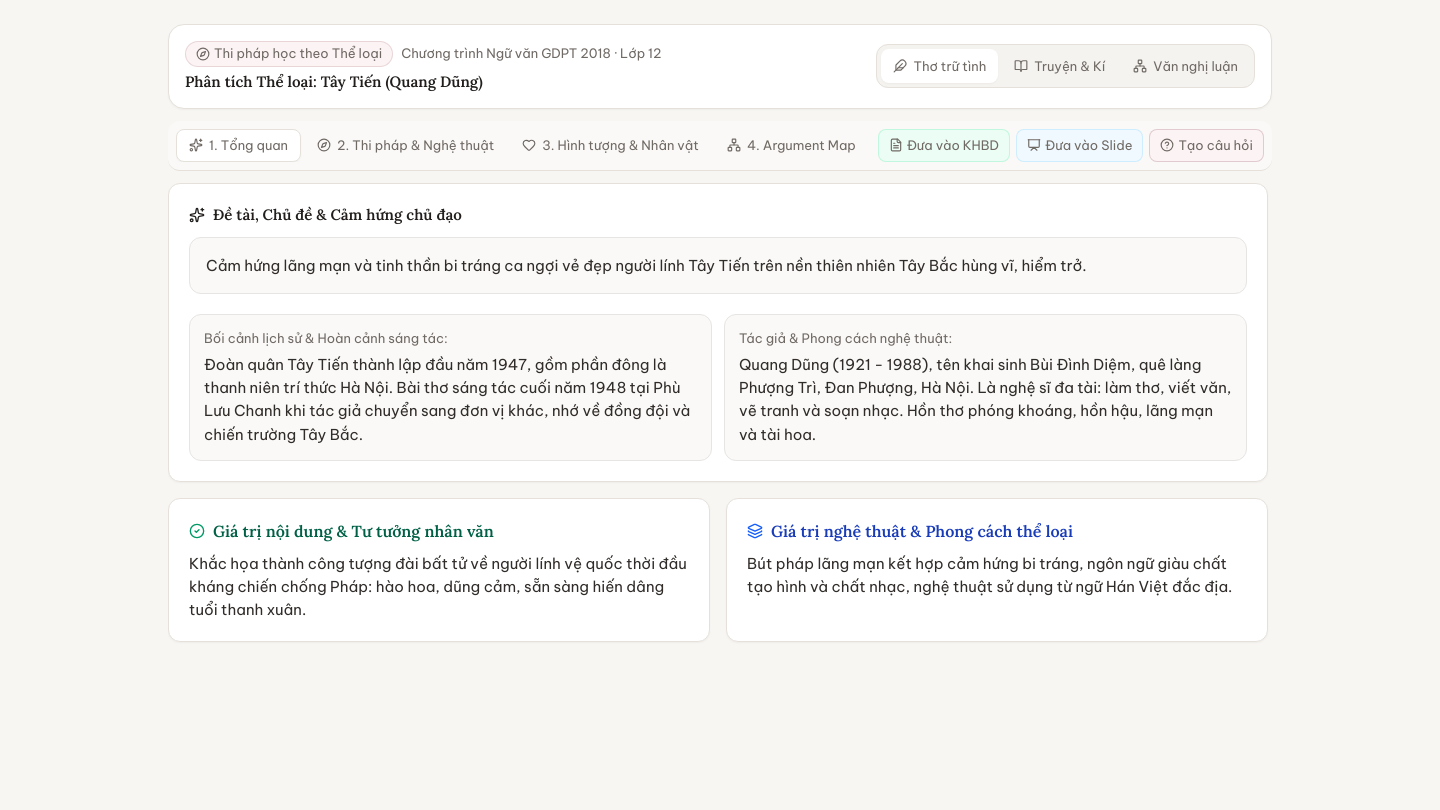
it: Functional: Genre Analysis & Argument Map Workspace › Genre Analysis Navigation Tabs › switches between tabs: 1. Tổng quan, 4. Argument Map
The width and height of the screenshot is (1440, 810).
Expected: the heading "Giá trị nội dung & Tư tưởng nhân văn" is shown, left=189, top=521, right=494, bottom=541
Click 4. Argument Map tab
Click the button "4. Argument Map" at (791, 145), box left=715, top=130, right=868, bottom=161
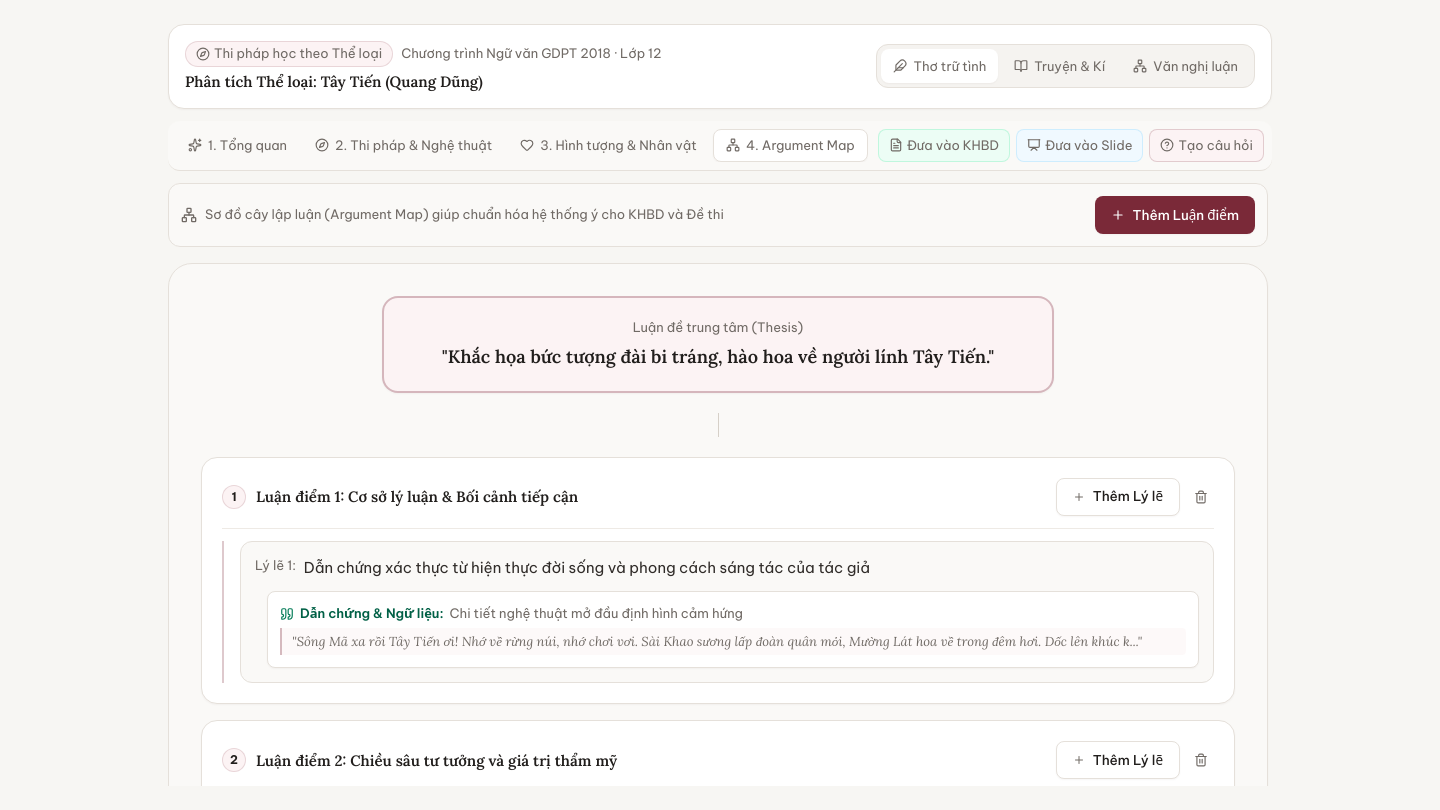
Expected: the text "Luận đề trung tâm (Thesis)" is shown, left=633, top=319, right=803, bottom=335
Expected: the button "Thêm Luận điểm" is shown, left=1094, top=196, right=1255, bottom=234
